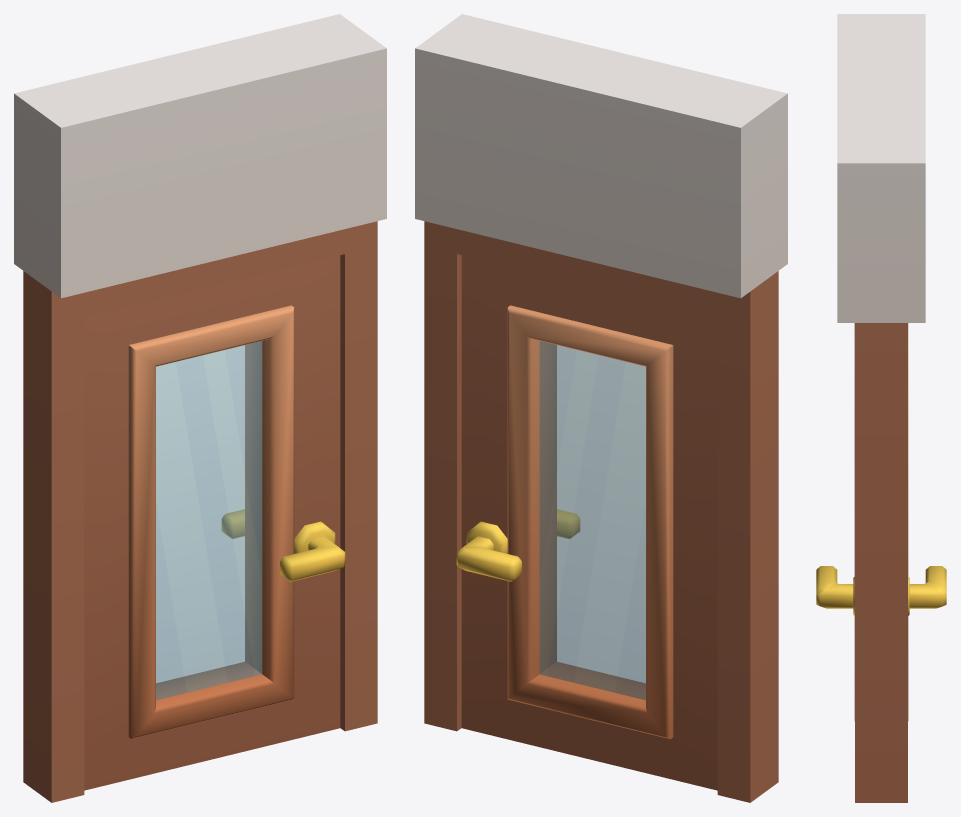
Rendered from wall-panelled-bakery-doorway.glb.
3 views of the same model, side by side, from view 1: azimuth 30°, elevation 25°; view 2: azimuth 150°, elevation 25°; view 3: azimuth 270°, elevation 25° (orthographic). The views are drawn at different scales.
Visible parts, largest first — view 1: wall_panelled_bakery_doorway, wall_panelled_bakery_door; view 2: wall_panelled_bakery_doorway, wall_panelled_bakery_door; view 3: wall_panelled_bakery_doorway, wall_panelled_bakery_door.
Boxes of the visible parts, bbox=[...] form: wall_panelled_bakery_doorway: bbox=[14, 14, 386, 802]; wall_panelled_bakery_door: bbox=[84, 255, 345, 790]; wall_panelled_bakery_doorway: bbox=[415, 14, 787, 802]; wall_panelled_bakery_door: bbox=[456, 255, 717, 790]; wall_panelled_bakery_doorway: bbox=[837, 14, 925, 802]; wall_panelled_bakery_door: bbox=[816, 323, 946, 720].
Size of the model in its own units: 2 by 4 by 0.74.
2 materials, 2 textured.
